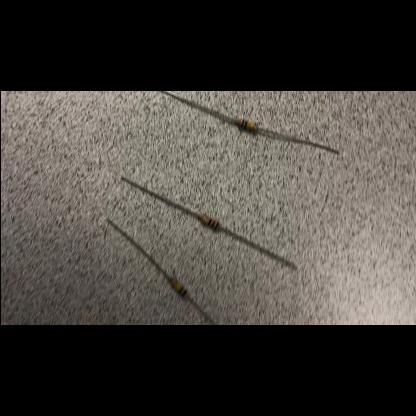resistor: (171, 278, 188, 300), (200, 216, 220, 230), (236, 119, 258, 131)
wire: (106, 219, 170, 281), (119, 177, 198, 219), (220, 226, 294, 270), (160, 91, 234, 123), (258, 128, 338, 154), (188, 298, 216, 324)
